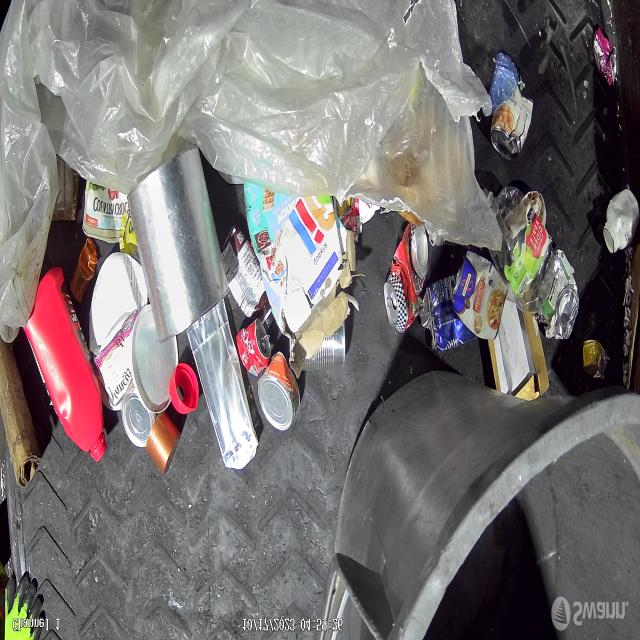can: (450, 252, 509, 342), (383, 221, 429, 334), (536, 245, 579, 343), (256, 350, 300, 432), (489, 83, 534, 162), (289, 321, 346, 374), (235, 316, 272, 376), (592, 27, 617, 89)
non_white_jug: (29, 264, 108, 460)
